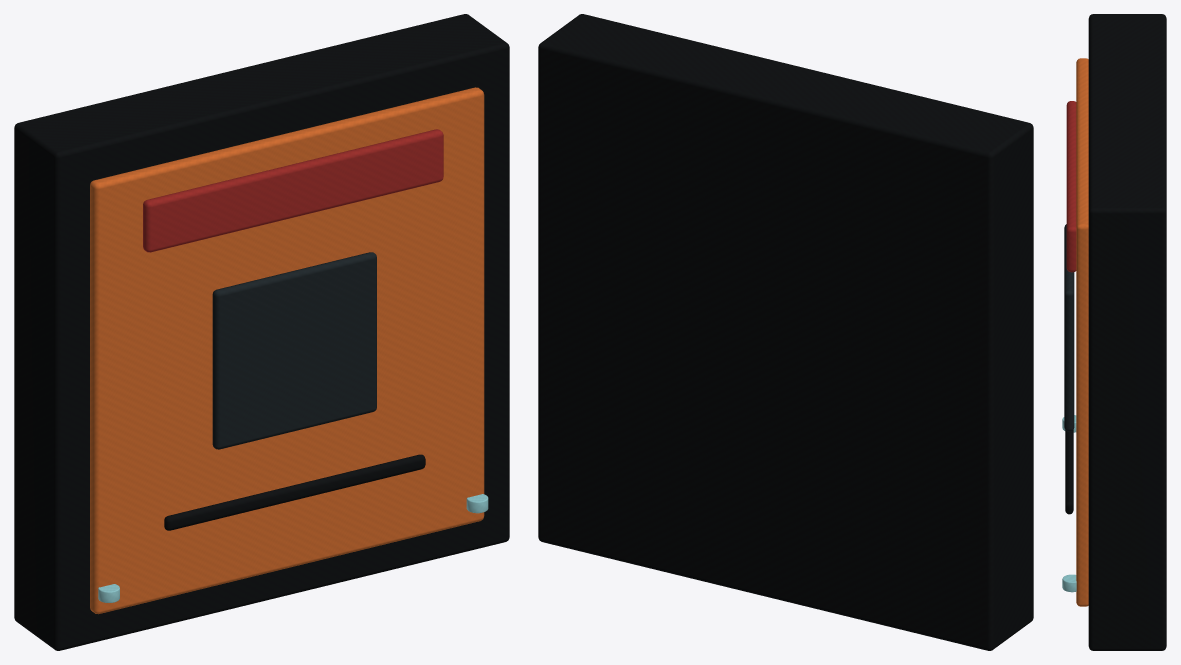
File: HazardPlacard.glb
3 views of the same model, side by side, from view 1: azimuth 30°, elevation 25°; view 2: azimuth 150°, elevation 25°; view 3: azimuth 270°, elevation 25° (orthographic). The views are drawn at different scales.
Visible parts, largest first — view 1: HazardPlacard_Mesh; view 2: HazardPlacard_Mesh; view 3: HazardPlacard_Mesh.
Part boxes in pixels (bbox=[...]): HazardPlacard_Mesh: bbox=[14, 14, 509, 650]; HazardPlacard_Mesh: bbox=[538, 14, 1033, 650]; HazardPlacard_Mesh: bbox=[1062, 14, 1166, 650].
Bounding box in the file's own units: 0.84 × 0.88 × 0.1875.
Materials: 5 (5 with a texture image).
